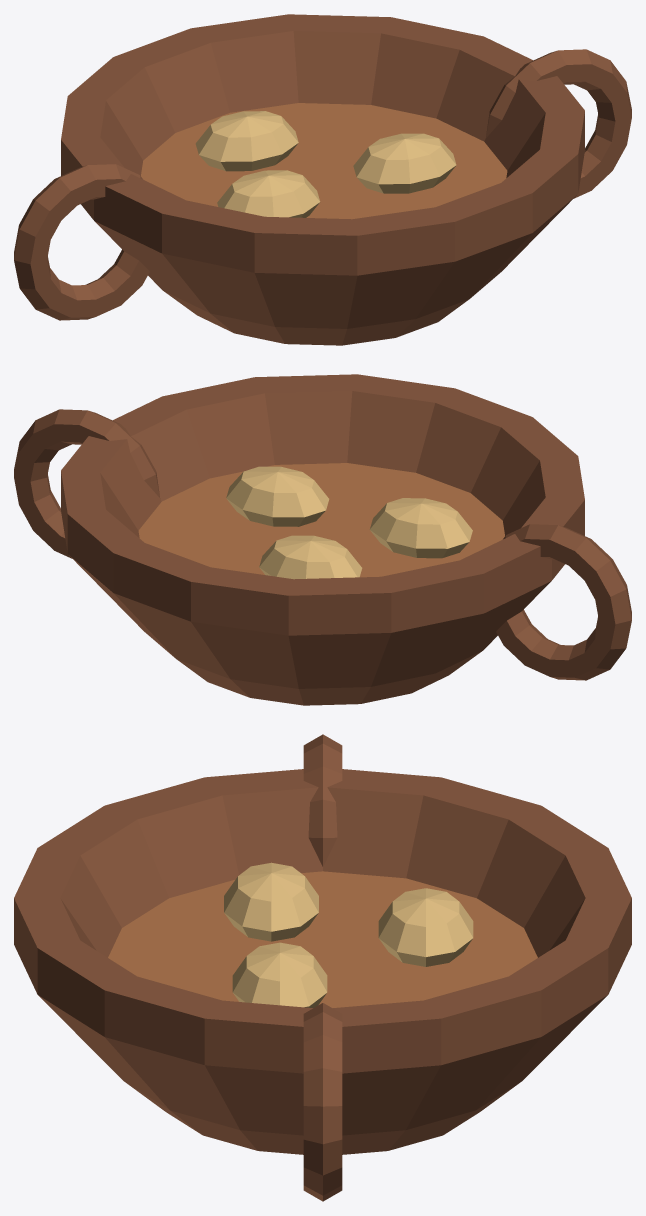
The model's file is AE_Item_ClayStew.fbx.
3 renders of one model, top to bottom at view 1: azimuth 30°, elevation 25°; view 2: azimuth 150°, elevation 25°; view 3: azimuth 270°, elevation 25°, orthographic. The views are drawn at different scales.
Parts seen in each view (by area): view 1: AE_Item_ClayStew; view 2: AE_Item_ClayStew; view 3: AE_Item_ClayStew.
Boxes of the visible parts, box(x1,y1,x2,y2) form: AE_Item_ClayStew: box(14, 14, 631, 345); AE_Item_ClayStew: box(14, 374, 631, 705); AE_Item_ClayStew: box(14, 734, 631, 1201).
Bounding box in the file's own units: 0.486 × 0.133 × 0.36.
